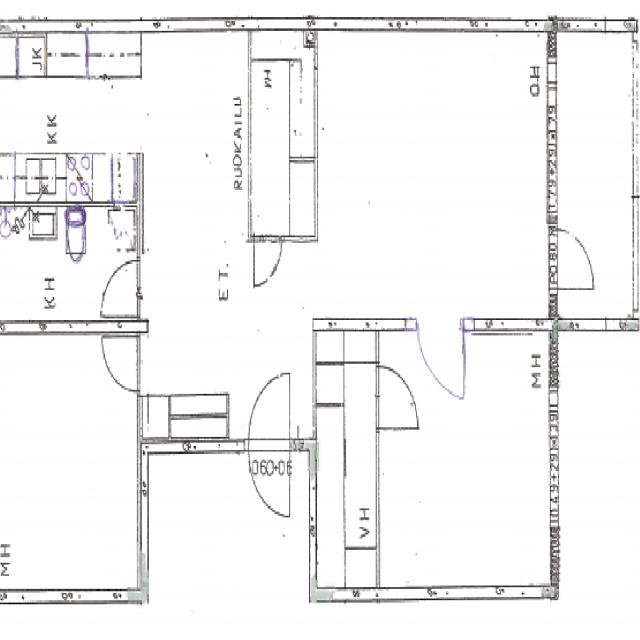door: (416, 319, 463, 405), (248, 374, 289, 452), (248, 440, 289, 518), (547, 228, 594, 290), (376, 366, 417, 428), (103, 260, 140, 316), (103, 336, 140, 390), (254, 237, 281, 287)
